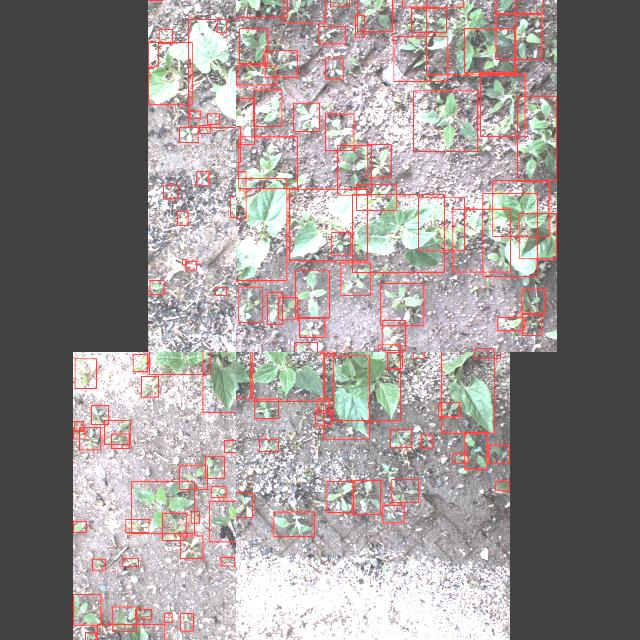crop: (352, 194, 444, 272), (289, 188, 367, 260), (187, 19, 236, 127), (236, 177, 285, 280), (482, 192, 538, 276), (332, 352, 399, 420), (441, 352, 494, 432), (323, 356, 369, 438), (251, 352, 323, 400), (493, 180, 549, 236), (147, 42, 191, 104), (202, 352, 236, 412), (518, 212, 556, 258), (148, 352, 209, 373), (147, 42, 157, 66)
weed: (426, 0, 515, 74), (413, 90, 477, 150), (452, 208, 510, 272), (130, 481, 193, 533), (518, 96, 556, 180), (238, 136, 296, 188), (480, 73, 524, 135), (418, 197, 464, 249), (393, 36, 447, 80), (464, 28, 514, 72), (496, 14, 542, 58), (381, 283, 424, 325), (337, 145, 371, 195), (295, 269, 329, 317), (252, 88, 282, 125), (209, 500, 236, 541), (356, 0, 391, 31), (324, 114, 354, 150), (355, 184, 395, 210), (273, 510, 313, 536), (238, 28, 268, 62), (340, 262, 370, 294), (283, 0, 325, 22), (354, 480, 381, 514), (237, 286, 261, 322), (264, 49, 296, 76), (410, 8, 446, 32), (236, 0, 286, 17), (72, 594, 100, 624), (236, 98, 254, 144), (326, 481, 352, 512), (465, 432, 487, 468), (293, 102, 319, 132), (366, 144, 390, 176), (236, 65, 275, 84), (381, 320, 405, 350), (161, 512, 185, 540), (179, 465, 207, 489), (74, 358, 96, 388), (110, 606, 136, 630), (103, 420, 129, 444), (392, 478, 418, 502), (521, 289, 545, 313), (495, 0, 543, 12), (266, 292, 282, 324), (78, 426, 100, 449), (298, 318, 324, 337), (180, 536, 202, 558), (277, 296, 297, 320), (254, 398, 278, 418), (318, 25, 344, 43), (330, 232, 350, 254), (236, 170, 245, 217), (204, 455, 223, 477), (522, 314, 542, 334), (236, 491, 252, 516), (391, 429, 412, 447), (382, 504, 403, 522), (488, 444, 509, 462), (324, 58, 342, 78), (90, 404, 108, 424), (140, 376, 158, 396), (498, 316, 524, 329), (124, 518, 148, 532), (178, 126, 198, 142), (438, 402, 459, 416), (110, 432, 128, 448), (258, 438, 278, 452), (386, 352, 402, 368), (132, 353, 146, 371), (293, 342, 316, 352), (354, 15, 364, 38), (162, 184, 178, 198), (316, 409, 330, 425), (180, 612, 192, 630), (149, 280, 163, 294), (158, 29, 172, 43), (196, 171, 208, 185), (72, 520, 86, 532), (210, 486, 226, 496), (135, 609, 151, 619), (452, 452, 468, 462), (92, 558, 105, 570), (421, 434, 432, 448), (317, 398, 328, 412), (229, 195, 236, 216), (224, 440, 236, 452), (177, 211, 187, 225), (216, 18, 226, 32), (220, 556, 234, 566), (495, 480, 509, 490), (121, 558, 137, 566), (184, 260, 196, 270), (206, 113, 218, 123), (72, 429, 84, 438), (73, 421, 83, 431), (214, 286, 226, 294), (198, 125, 210, 133), (188, 110, 200, 118), (190, 511, 198, 523), (329, 0, 348, 5), (475, 347, 493, 352), (85, 632, 95, 640), (163, 612, 171, 622), (412, 352, 423, 357), (182, 258, 186, 264)
